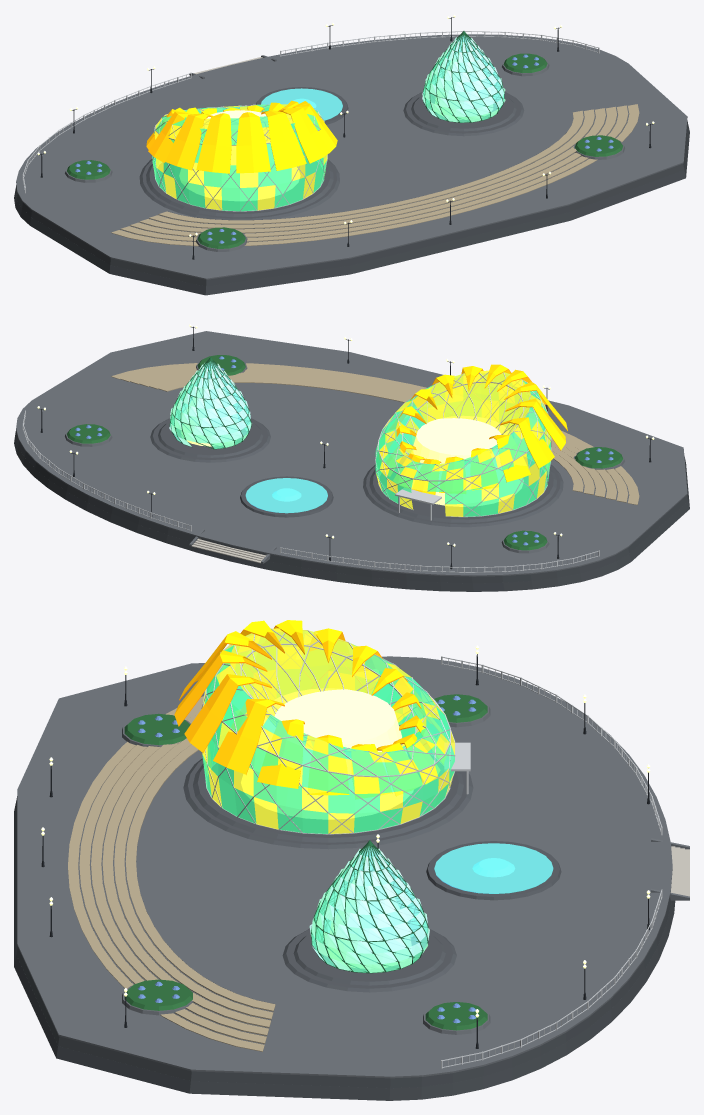
File: lm_01_quang_truong_lam_vien.glb
The picture shows the model from 3 angles, top to bottom: view 1: azimuth 30°, elevation 25°; view 2: azimuth 150°, elevation 25°; view 3: azimuth 270°, elevation 25°; orthographic projection. The views are drawn at different scales.
Parts seen in each view (by area): view 1: Foundation_Plinth_Trim, Plaza_Amphitheater_Steps, Foundation_Skirt, Sunflower_3D_Petals_Gold, Sunflower_Glass_Emerald_Panels, Sunflower_Granite_Podium, Sunflower_Interior_Glow_Core, Sunflower_Glass_Golden_Panels, Plaza_Flower_Planter_Greenery, Artichoke_Scale_Tips_Glow, Artichoke_Jade_Glass_Scales, Artichoke_Granite_Podium (+9 smaller); view 2: Foundation_Plinth_Trim, Foundation_Skirt, Sunflower_Glass_Emerald_Panels, Sunflower_Glass_Golden_Panels, Plaza_Amphitheater_Steps, Sunflower_3D_Petals_Gold, Sunflower_Granite_Podium, Sunflower_Interior_Glow_Core, Sunflower_Diagrid_Steel_Frame, Central_Fountain_Basalt_Rim, Artichoke_Scale_Tips_Glow, Artichoke_Jade_Glass_Scales (+12 smaller); view 3: Foundation_Plinth_Trim, Plaza_Amphitheater_Steps, Sunflower_Glass_Emerald_Panels, Sunflower_3D_Petals_Gold, Foundation_Skirt, Sunflower_Glass_Golden_Panels, Sunflower_Granite_Podium, Sunflower_Interior_Glow_Core, Central_Fountain_Basalt_Rim, Sunflower_Diagrid_Steel_Frame, Artichoke_Scale_Tips_Glow, Artichoke_Jade_Glass_Scales (+13 smaller).
Part boxes in pixels (x1,y1,x2,y2): Foundation_Plinth_Trim: [16, 34, 687, 279]; Plaza_Amphitheater_Steps: [111, 104, 639, 246]; Foundation_Skirt: [14, 120, 689, 295]; Sunflower_3D_Petals_Gold: [146, 100, 337, 173]; Sunflower_Glass_Emerald_Panels: [152, 104, 326, 211]; Sunflower_Granite_Podium: [139, 153, 339, 220]; Sunflower_Interior_Glow_Core: [179, 110, 299, 200]; Sunflower_Glass_Golden_Panels: [154, 104, 327, 210]; Plaza_Flower_Planter_Greenery: [67, 53, 622, 248]; Artichoke_Scale_Tips_Glow: [422, 36, 505, 122]; Artichoke_Jade_Glass_Scales: [423, 35, 504, 122]; Artichoke_Granite_Podium: [403, 92, 524, 136]; Foundation_Plinth_Trim: [16, 331, 687, 576]; Foundation_Skirt: [14, 429, 689, 591]; Sunflower_Glass_Emerald_Panels: [375, 373, 550, 516]; Sunflower_Glass_Golden_Panels: [376, 370, 550, 516]; Plaza_Amphitheater_Steps: [111, 363, 639, 504]; Sunflower_3D_Petals_Gold: [379, 364, 567, 494]; Sunflower_Granite_Podium: [363, 455, 563, 527]; Sunflower_Interior_Glow_Core: [411, 416, 523, 506]; Sunflower_Diagrid_Steel_Frame: [375, 372, 551, 517]; Central_Fountain_Basalt_Rim: [240, 476, 333, 517]; Artichoke_Scale_Tips_Glow: [169, 363, 251, 447]; Artichoke_Jade_Glass_Scales: [170, 361, 250, 448]; Foundation_Plinth_Trim: [17, 656, 672, 1078]; Plaza_Amphitheater_Steps: [68, 696, 275, 1051]; Sunflower_Glass_Emerald_Panels: [202, 631, 454, 833]; Sunflower_3D_Petals_Gold: [174, 620, 445, 798]; Foundation_Skirt: [14, 796, 675, 1100]; Sunflower_Glass_Golden_Panels: [202, 628, 454, 833]; Sunflower_Granite_Podium: [183, 749, 473, 849]; Sunflower_Interior_Glow_Core: [241, 688, 412, 819]; Central_Fountain_Basalt_Rim: [426, 841, 561, 900]; Sunflower_Diagrid_Steel_Frame: [201, 628, 455, 834]; Artichoke_Scale_Tips_Glow: [309, 848, 429, 972]; Artichoke_Jade_Glass_Scales: [311, 846, 427, 972].
Bounding box in the file's own units: 121 × 21.15 × 81.72.
